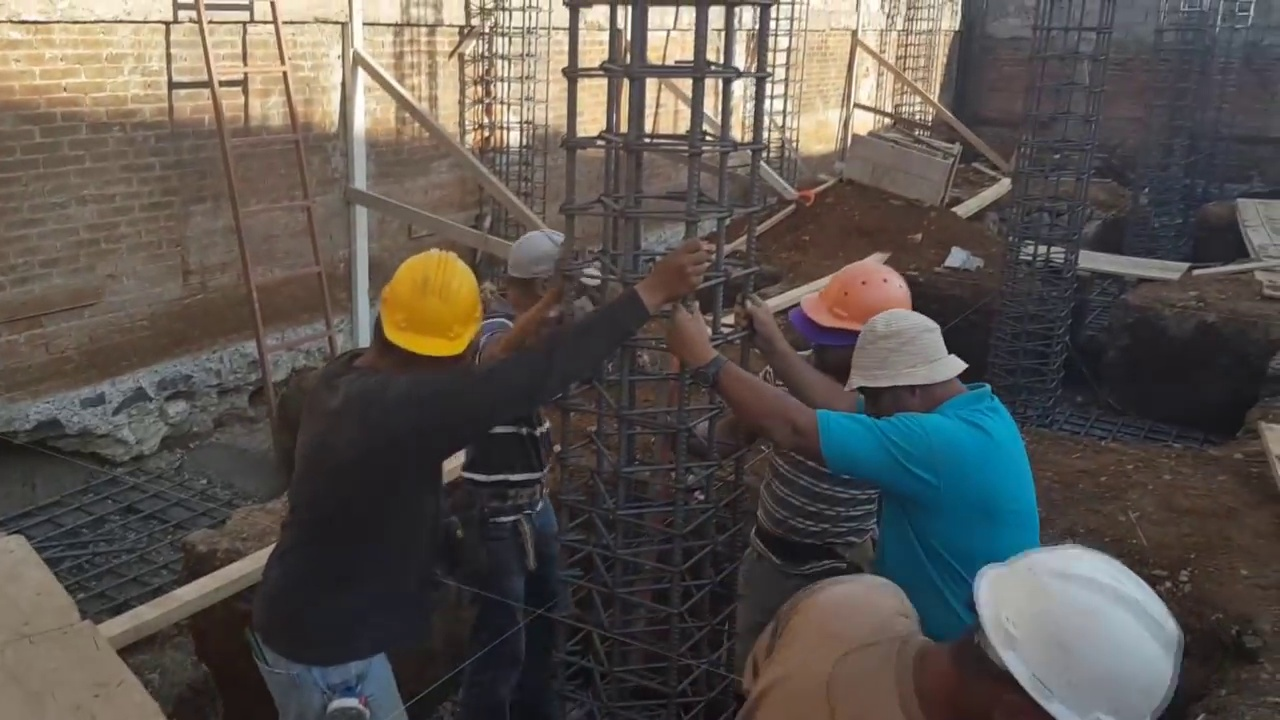helmet: (973, 548, 1183, 718), (375, 246, 482, 359), (800, 260, 915, 331)
helmet-off: (843, 308, 994, 424), (505, 229, 587, 318)
helmet-on: (896, 545, 1183, 717), (344, 240, 484, 371), (788, 261, 916, 381)
person: (250, 240, 710, 718), (668, 294, 1043, 641), (726, 544, 1183, 720), (730, 262, 918, 639), (462, 225, 586, 641)
